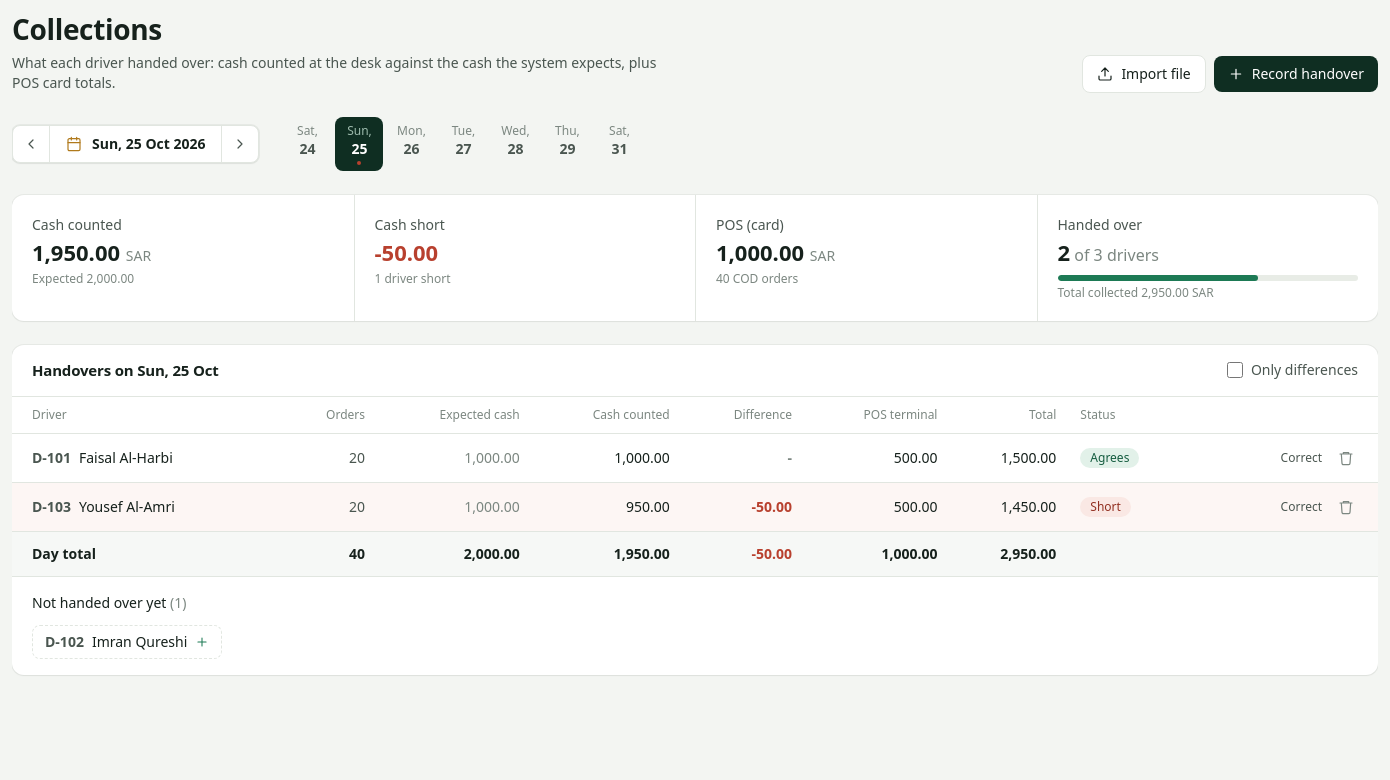
Test: the day shows each handover, the shortage and who still has to hand over
The width and height of the screenshot is (1390, 780).
Check: the text "Short" is shown, box [1080,497,1131,517]
Check: the text "-50.00" in the row of "D-103" is shown, box [751,496,792,516]
Click the checkbox labelled "Only differences" at x=1235, y=370, box [1227,362,1243,378]
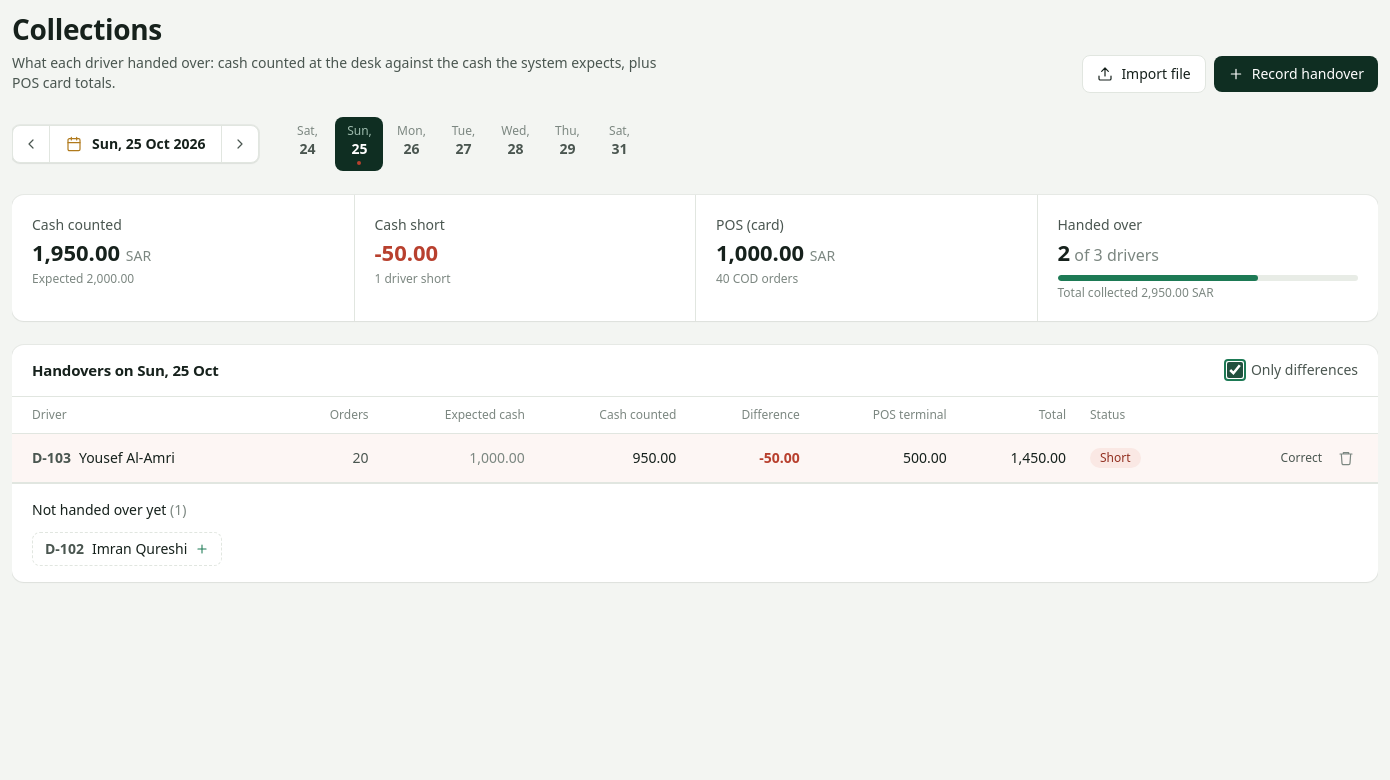
Check: the text "Faisal Al-Harbi" is gone
